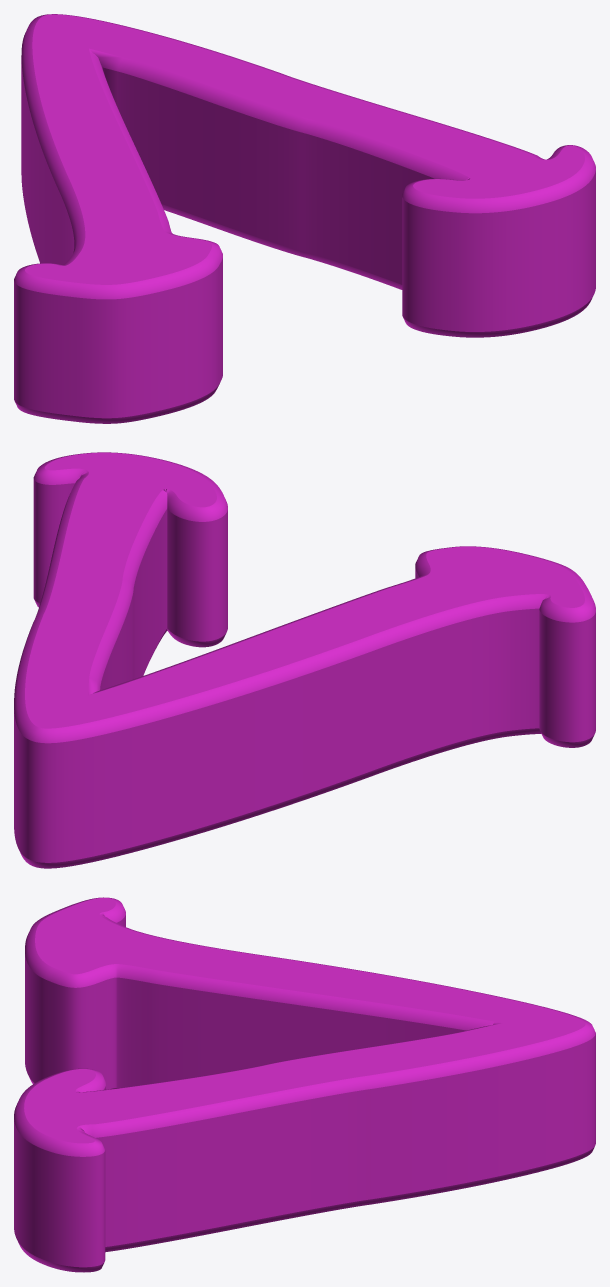
File: Letter_V.fbx
3 renders of one model, top to bottom at view 1: azimuth 30°, elevation 25°; view 2: azimuth 150°, elevation 25°; view 3: azimuth 270°, elevation 25°, orthographic. The views are drawn at different scales.
Parts seen in each view (by area): view 1: Letter_V; view 2: Letter_V; view 3: Letter_V.
Part boxes in pixels (box(x1,y1,x2,y2)): Letter_V: box(14, 14, 595, 423); Letter_V: box(14, 452, 595, 868); Letter_V: box(14, 897, 595, 1272).
Bounding box in the file's own units: 0.5925 × 0.14 × 0.5735.
